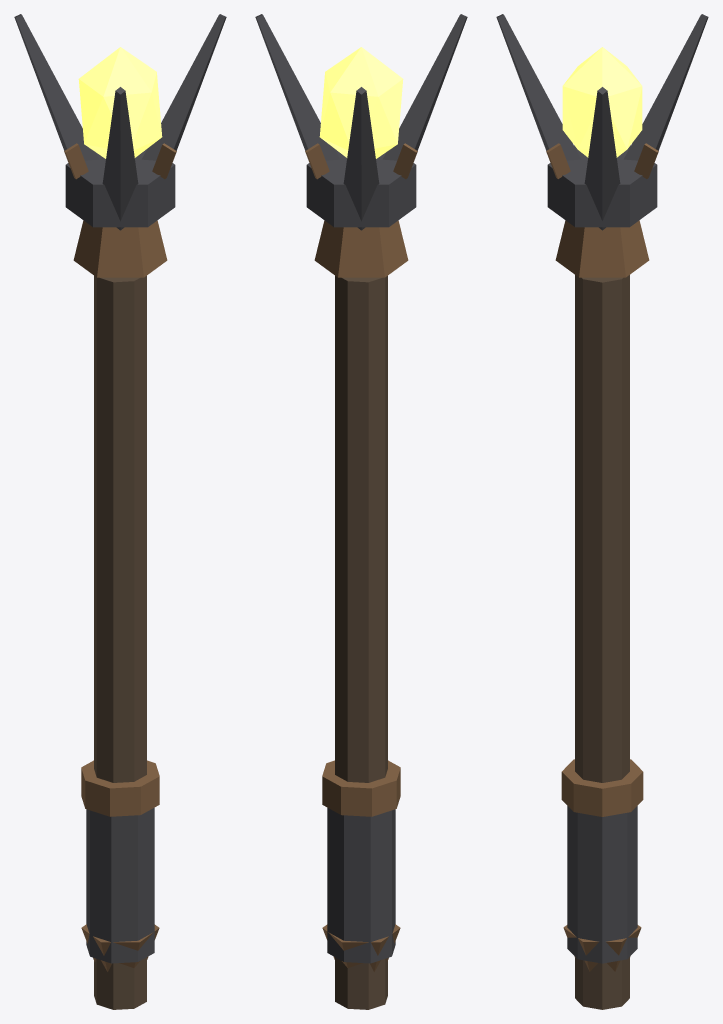
Rendered from Ember_Of_The_Demon_King.fbx.
3 views of the same model, side by side, from view 1: azimuth 30°, elevation 25°; view 2: azimuth 150°, elevation 25°; view 3: azimuth 270°, elevation 25° (orthographic).
Parts seen in each view (by area): view 1: Shaft, Grip, EmberCrystal, CrownBase, Collar, GripRing, Claw_3, Claw_2, Claw_1, Pommel, Fin_2, Fin_3; view 2: Shaft, Grip, EmberCrystal, CrownBase, Collar, GripRing, Claw_2, Claw_3, Claw_1, Pommel, Fin_1, Fin_2; view 3: Shaft, Grip, EmberCrystal, CrownBase, Collar, GripRing, Claw_1, Claw_2, Claw_3, Pommel, Fin_1, Fin_3.
Part boxes in pixels (box(x1,y1,x2,y2)): Shaft: box(94, 276, 146, 1009); Grip: box(86, 807, 154, 963); EmberCrystal: box(78, 47, 162, 158); CrownBase: box(65, 149, 175, 227); Collar: box(73, 220, 167, 277); GripRing: box(81, 760, 159, 816); Claw_3: box(102, 87, 138, 230); Claw_2: box(14, 14, 99, 160); Claw_1: box(141, 14, 226, 160); Pommel: box(81, 924, 159, 971); Fin_2: box(64, 143, 88, 179); Fin_3: box(152, 143, 176, 179); Shaft: box(335, 276, 387, 1009); Grip: box(327, 807, 395, 963); EmberCrystal: box(319, 47, 403, 158); CrownBase: box(306, 149, 416, 227); Collar: box(314, 220, 408, 277); GripRing: box(322, 760, 400, 816); Claw_2: box(343, 87, 379, 230); Claw_3: box(382, 14, 467, 160); Claw_1: box(255, 14, 340, 160); Pommel: box(322, 924, 400, 971); Fin_1: box(305, 143, 329, 179); Fin_2: box(393, 143, 417, 179); Shaft: box(575, 275, 629, 1009); Grip: box(567, 806, 637, 963); EmberCrystal: box(562, 47, 642, 157); CrownBase: box(547, 145, 657, 227); Collar: box(555, 220, 649, 277); GripRing: box(561, 759, 643, 816); Claw_1: box(584, 87, 620, 230); Claw_2: box(623, 14, 708, 160); Claw_3: box(496, 14, 581, 160); Pommel: box(563, 925, 641, 971); Fin_1: box(634, 143, 658, 178); Fin_3: box(546, 143, 570, 178).
Bounding box in the file's own units: 23.86 × 135 × 27.14.
